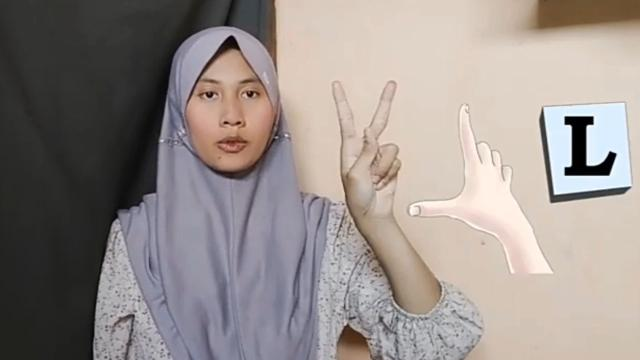K: (324, 73, 410, 239)
